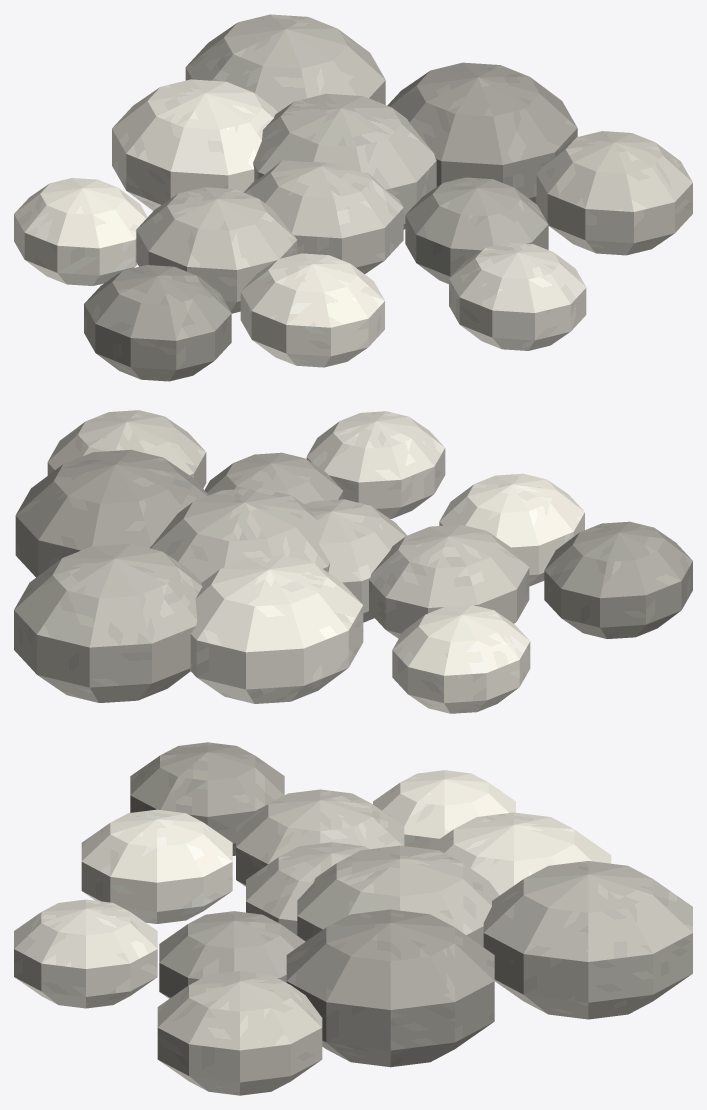
The model's file is popcorn.glb.
3 renders of one model, top to bottom at view 1: azimuth 30°, elevation 25°; view 2: azimuth 150°, elevation 25°; view 3: azimuth 270°, elevation 25°, orthographic. The views are drawn at different scales.
Parts seen in each view (by area): view 1: block_grain 6, block_grain 4, block_grain 11, block_grain 10, block_grain 5, block_grain 9, block_grain 1, block_grain 2, block_grain 8, block_grain 0, block_grain 7, block_grain 3; view 2: block_grain 9, block_grain 4, block_grain 6, block_grain 10, block_grain 2, block_grain 7, block_grain 1, block_grain 8, block_grain 5, block_grain 11, block_grain 0, block_grain 3; view 3: block_grain 9, block_grain 6, block_grain 11, block_grain 5, block_grain 8, block_grain 1, block_grain 10, block_grain 2, block_grain 4, block_grain 3, block_grain 7, block_grain 0.
Boxes of the visible parts, x1=… form: block_grain 6: x1=387, y1=62, x2=577, y2=203; block_grain 4: x1=112, y1=79, x2=277, y2=210; block_grain 11: x1=535, y1=131, x2=692, y2=255; block_grain 10: x1=84, y1=265, x2=231, y2=381; block_grain 5: x1=240, y1=253, x2=384, y2=367; block_grain 9: x1=185, y1=14, x2=385, y2=112; block_grain 1: x1=253, y1=93, x2=436, y2=229; block_grain 2: x1=136, y1=187, x2=297, y2=313; block_grain 8: x1=449, y1=242, x2=586, y2=350; block_grain 0: x1=244, y1=160, x2=403, y2=273; block_grain 7: x1=14, y1=178, x2=147, y2=285; block_grain 3: x1=405, y1=177, x2=548, y2=283; block_grain 9: x1=14, y1=543, x2=202, y2=702; block_grain 4: x1=189, y1=555, x2=363, y2=703; block_grain 6: x1=15, y1=449, x2=208, y2=577; block_grain 10: x1=544, y1=521, x2=692, y2=638; block_grain 2: x1=369, y1=524, x2=529, y2=638; block_grain 7: x1=392, y1=605, x2=530, y2=713; block_grain 1: x1=149, y1=488, x2=330, y2=582; block_grain 8: x1=306, y1=411, x2=445, y2=518; block_grain 5: x1=439, y1=473, x2=584, y2=586; block_grain 11: x1=47, y1=410, x2=206, y2=488; block_grain 0: x1=305, y1=499, x2=406, y2=622; block_grain 3: x1=205, y1=452, x2=343, y2=504; block_grain 9: x1=483, y1=861, x2=692, y2=1019; block_grain 6: x1=286, y1=909, x2=494, y2=1067; block_grain 11: x1=157, y1=971, x2=322, y2=1095; block_grain 5: x1=81, y1=809, x2=232, y2=923; block_grain 8: x1=14, y1=899, x2=157, y2=1008; block_grain 1: x1=297, y1=845, x2=499, y2=946; block_grain 10: x1=130, y1=742, x2=284, y2=855; block_grain 2: x1=236, y1=789, x2=404, y2=886; block_grain 4: x1=426, y1=812, x2=611, y2=895; block_grain 3: x1=159, y1=911, x2=305, y2=998; block_grain 7: x1=373, y1=770, x2=515, y2=848; block_grain 0: x1=246, y1=842, x2=369, y2=935.
Bounding box in the file's own units: 0.0716 × 0.0146 × 0.0685.
1 material, 1 textured.
